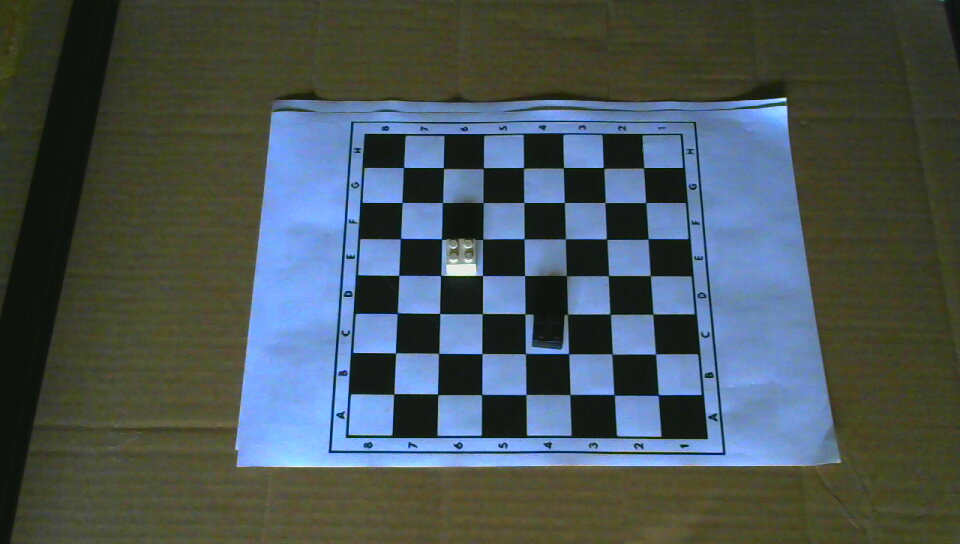bp: (531, 308, 566, 350)
wp: (445, 236, 479, 276)
